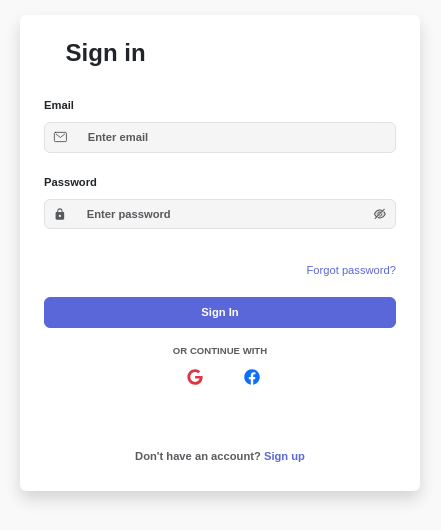
Scenario: Login Component › yupSchema
This screenshot has width=441, height=530.
Click the button "Sign In": (220,313) [44,297,396,328]
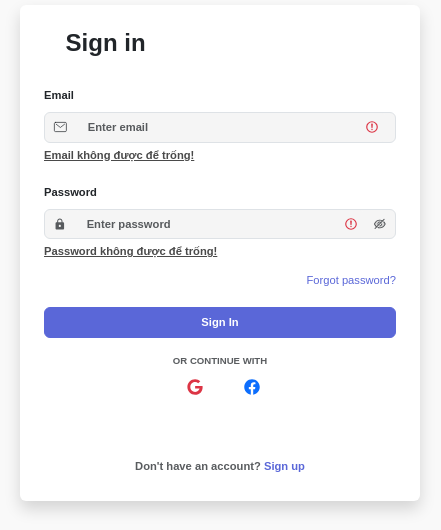
Now the text "Email không được để trống!" is shown, box [44,149,194,161]
Now the text "Password không được để trống!" is shown, box [44,245,217,257]
